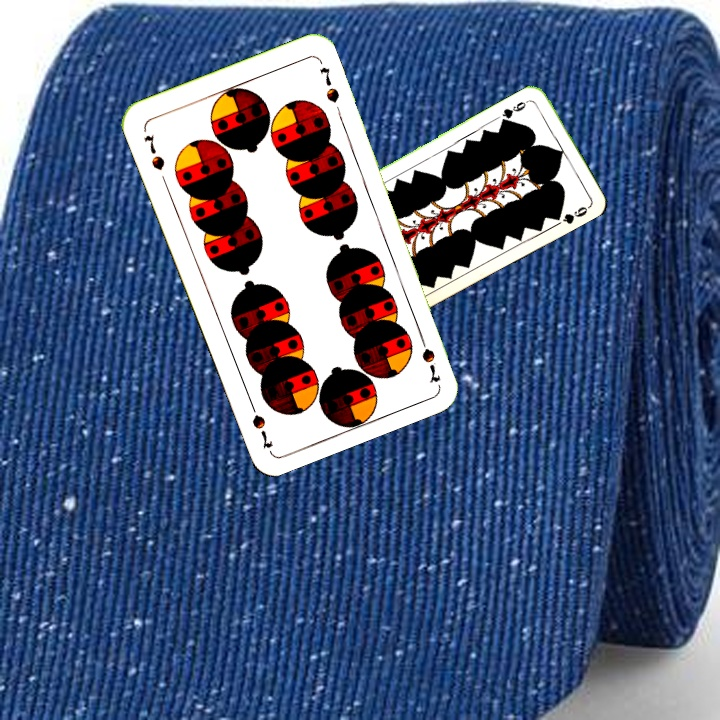G9: (498, 95, 534, 123)
S7: (415, 328, 443, 385), (140, 131, 168, 173)
